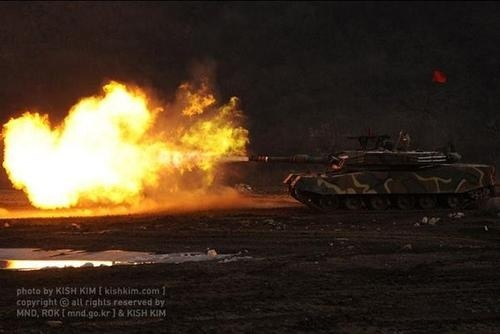fire: (0, 79, 246, 214)
